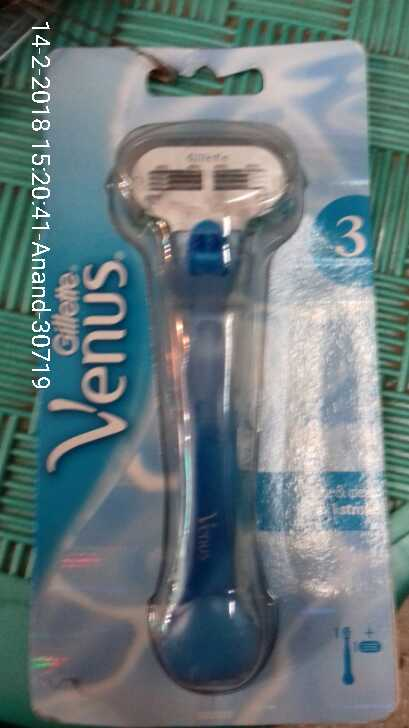venus: (111, 113, 313, 697)
